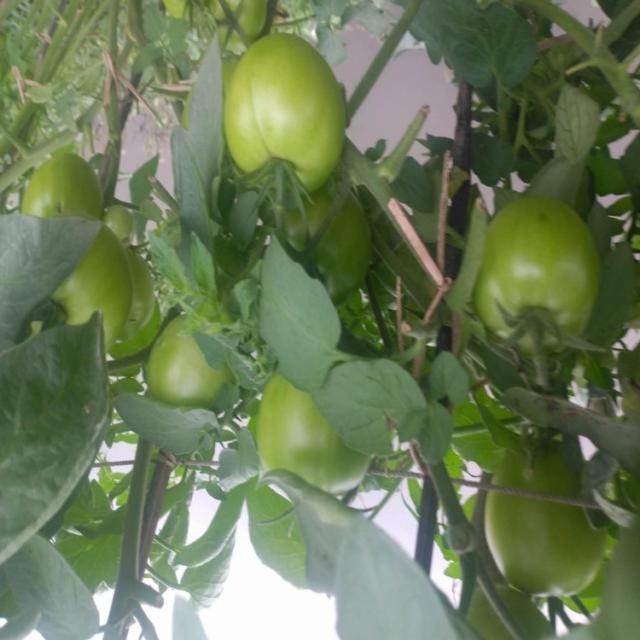tomato: (443, 176, 600, 354), (475, 418, 609, 600), (220, 46, 369, 187), (34, 230, 151, 348), (250, 381, 371, 495), (283, 171, 382, 304), (23, 135, 133, 222), (153, 307, 243, 408), (166, 1, 280, 47)
